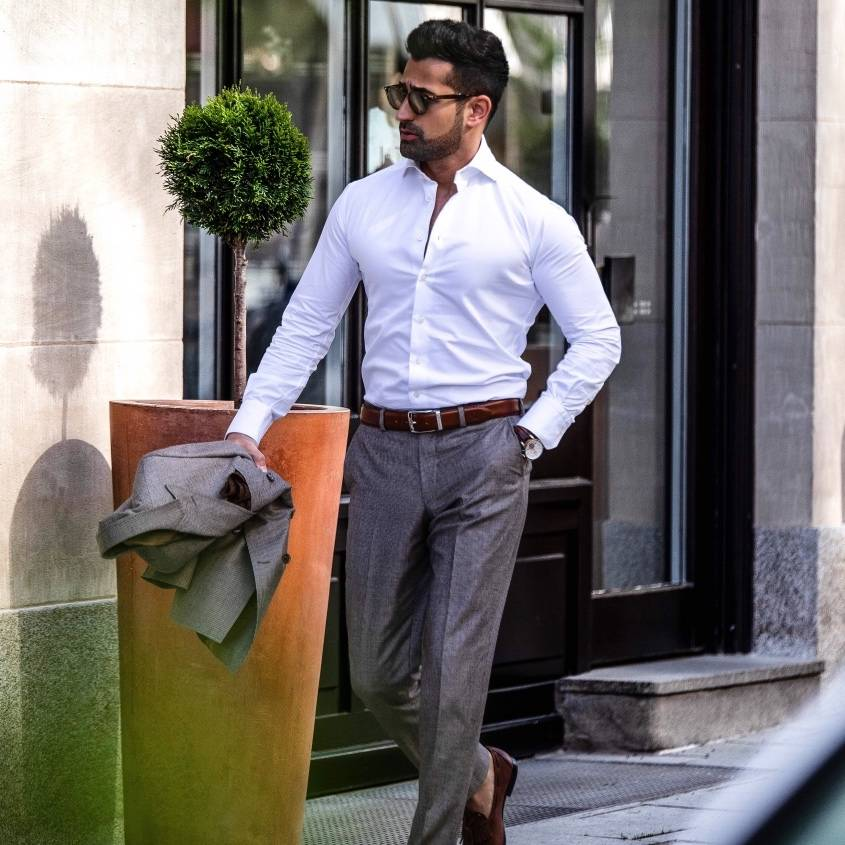F_belt: (348, 394, 525, 437)
F_dress pants: (348, 400, 538, 842)
F_shirt: (187, 156, 621, 450)
